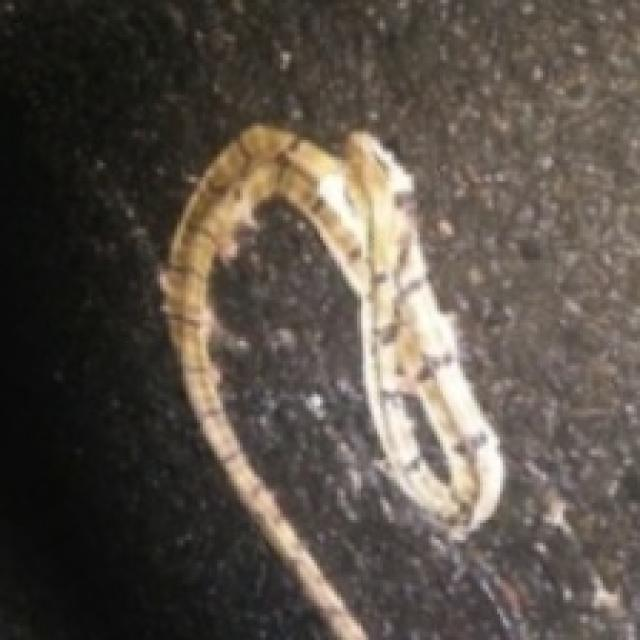dog-toothed cat snake: (163, 126, 503, 637)
